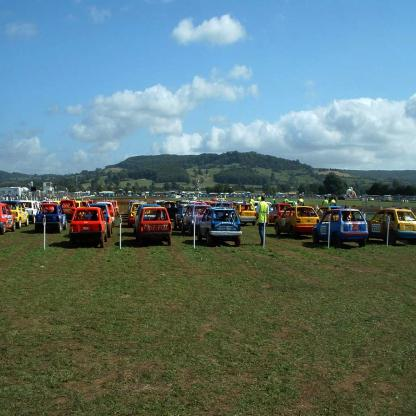Car: (0, 200, 416, 247)
